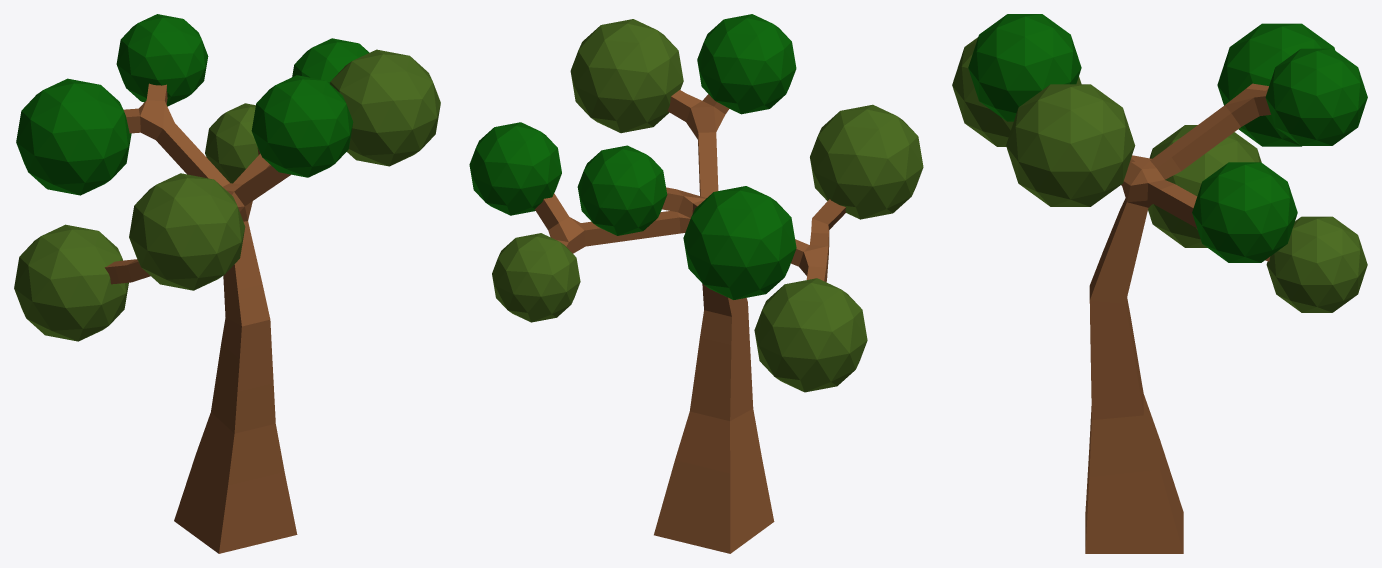
Rendered from TreeB1.fbx.
The picture shows the model from 3 angles, left to right: view 1: azimuth 30°, elevation 25°; view 2: azimuth 150°, elevation 25°; view 3: azimuth 270°, elevation 25°; orthographic projection. The views are drawn at different scales.
Visible parts, largest first — view 1: TreeB1; view 2: TreeB1; view 3: TreeB1.
Part boxes in pixels (<box>): TreeB1: <box>14,14,440,553</box>; TreeB1: <box>469,14,923,553</box>; TreeB1: <box>952,14,1367,553</box>.
Size of the model in its own units: 643 by 726 by 897.
